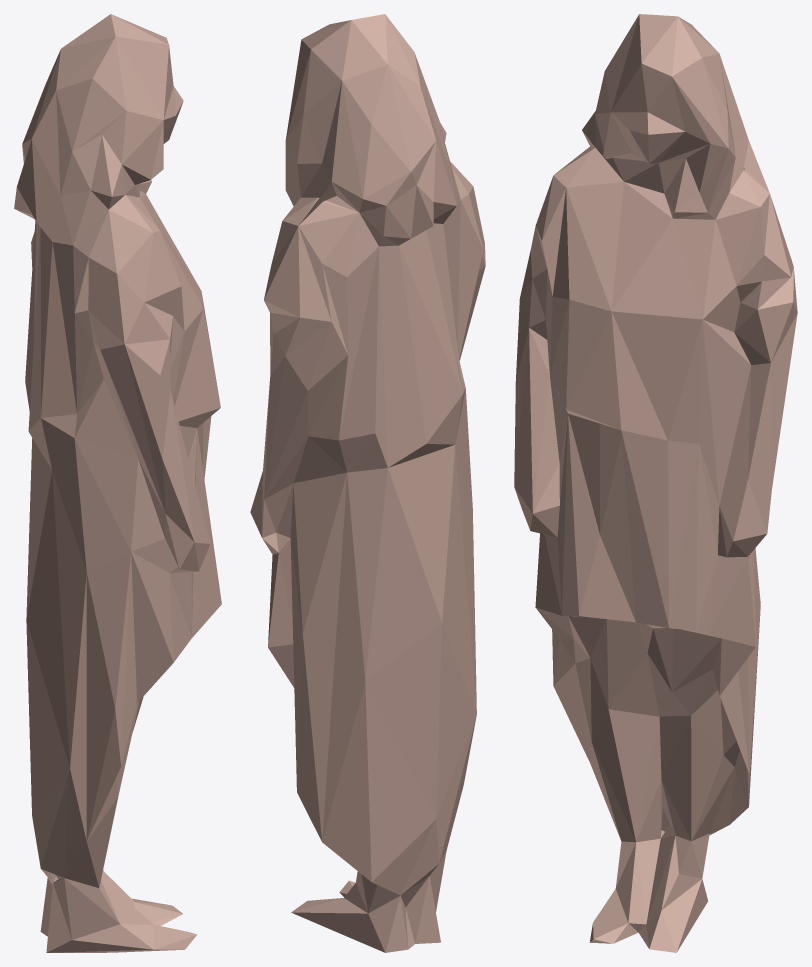
The model's file is Hooded_Girl.fbx.
3 renders of one model, left to right at view 1: azimuth 30°, elevation 25°; view 2: azimuth 150°, elevation 25°; view 3: azimuth 270°, elevation 25°, orthographic.
Parts seen in each view (by area): view 1: Hooded Girl 1; view 2: Hooded Girl 1; view 3: Hooded Girl 1.
Boxes of the visible parts, x1=… form: Hooded Girl 1: x1=14, y1=14, x2=221, y2=952; Hooded Girl 1: x1=250, y1=14, x2=485, y2=952; Hooded Girl 1: x1=514, y1=14, x2=797, y2=952.
Bounding box in the file's own units: 35.78 × 190 × 53.1.
